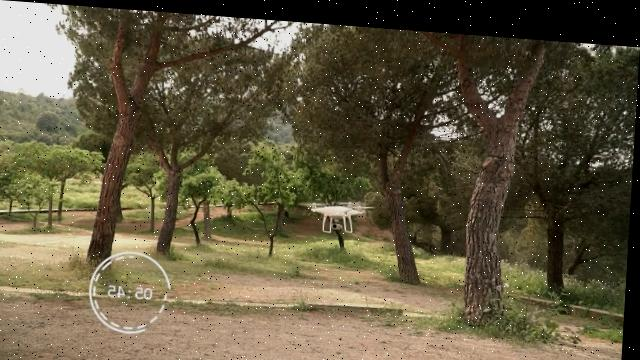drone: (298, 190, 380, 231)
